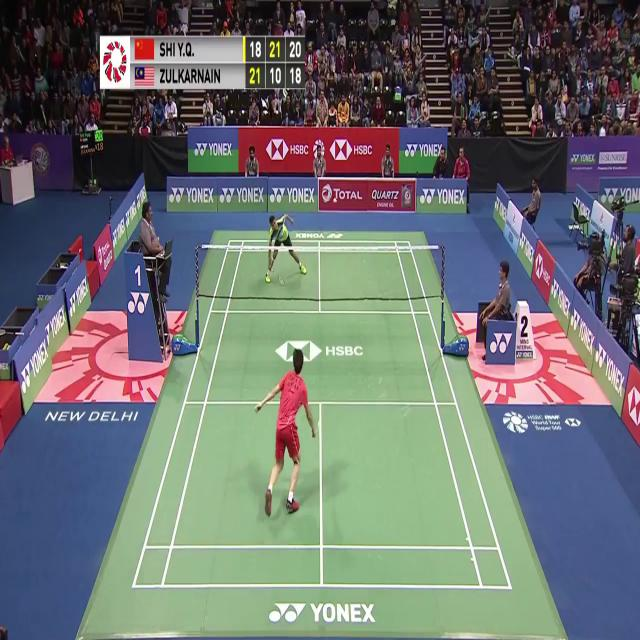Shuttlecock: (332, 195, 338, 207)
